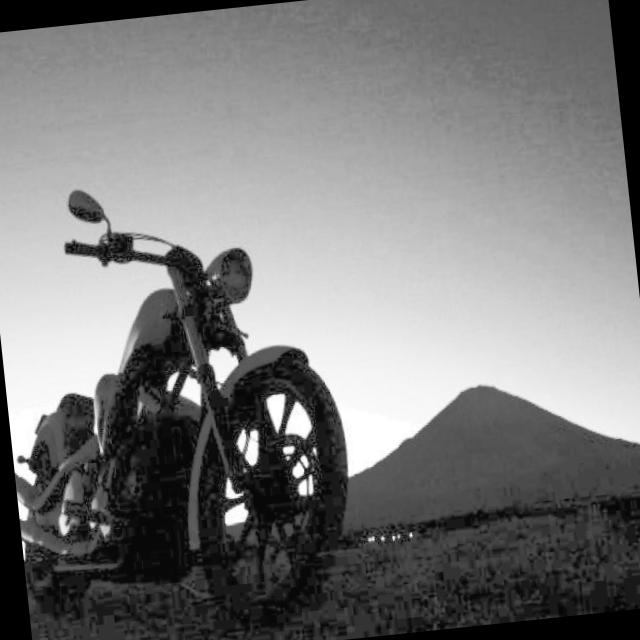Motorcycle: (0, 142, 402, 640)
